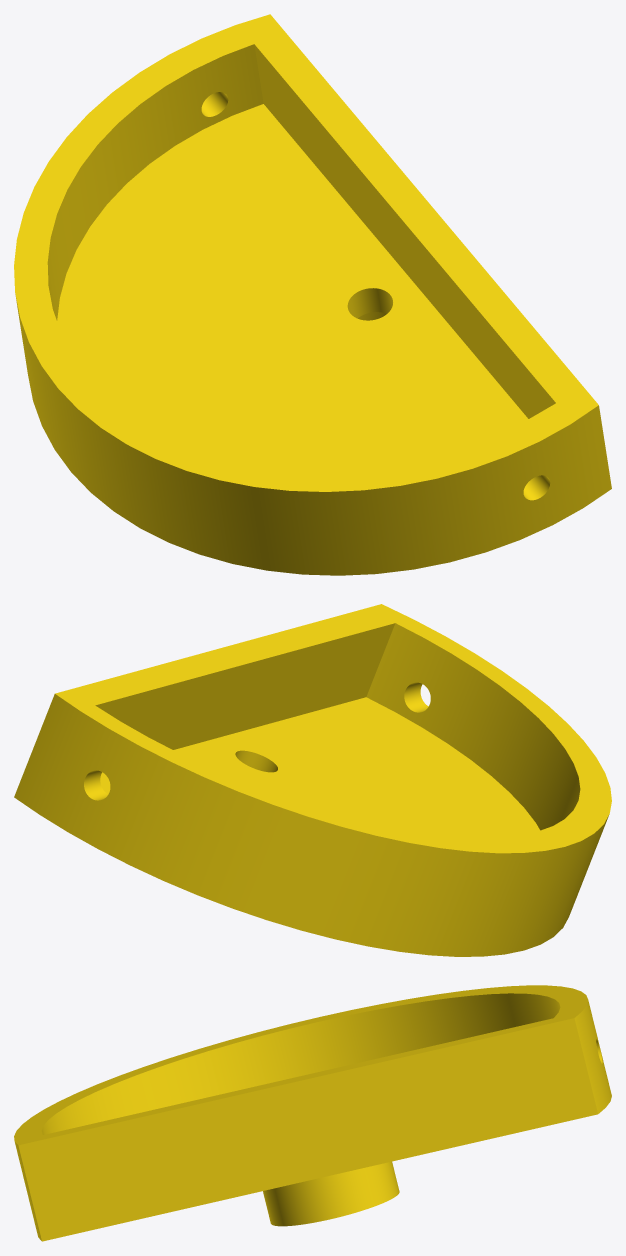
Rendered from left_antenna_holder.gltf.
3 views of the same model, one above another, from view 1: azimuth 30°, elevation 25°; view 2: azimuth 150°, elevation 25°; view 3: azimuth 270°, elevation 25° (orthographic). The views are drawn at different scales.
Visible parts, largest first — view 1: mesh158, mesh152, mesh156, mesh155, mesh157, mesh149; view 2: mesh152, mesh158, mesh156, mesh155, mesh157, mesh149, mesh154, mesh153; view 3: mesh151, mesh155, mesh156, mesh146, mesh152.
Boxes of the visible parts, x1=… form: mesh158: x1=57, y1=104, x2=528, y2=467; mesh152: x1=15, y1=294, x2=611, y2=575; mesh156: x1=14, y1=14, x2=598, y2=491; mesh155: x1=47, y1=44, x2=263, y2=320; mesh157: x1=254, y1=44, x2=555, y2=418; mesh149: x1=347, y1=288, x2=392, y2=318; mesh152: x1=14, y1=694, x2=609, y2=956; mesh158: x1=100, y1=697, x2=540, y2=837; mesh156: x1=55, y1=604, x2=611, y2=853; mesh155: x1=366, y1=623, x2=580, y2=830; mesh157: x1=95, y1=623, x2=395, y2=749; mesh149: x1=235, y1=750, x2=277, y2=772; mesh154: x1=84, y1=770, x2=108, y2=800; mesh153: x1=404, y1=682, x2=428, y2=712; mesh151: x1=18, y1=1018, x2=597, y2=1241; mesh155: x1=41, y1=993, x2=560, y2=1134; mesh156: x1=14, y1=985, x2=588, y2=1145; mesh146: x1=263, y1=1161, x2=399, y2=1226; mesh152: x1=15, y1=1000, x2=611, y2=1240.
Bounding box in the file's own units: 0.027 × 0.02 × 0.0417.
